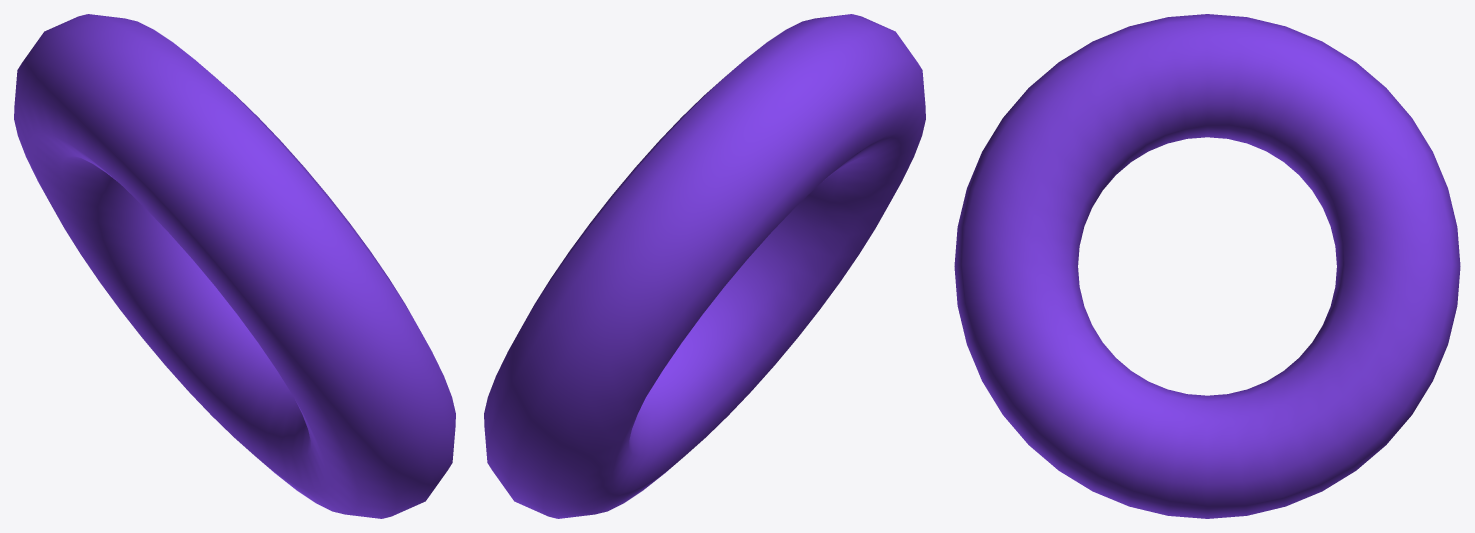
3 renders of one model, left to right at view 1: azimuth 30°, elevation 25°; view 2: azimuth 150°, elevation 25°; view 3: azimuth 270°, elevation 25°, orthographic. The views are drawn at different scales.
Parts seen in each view (by area): view 1: Torus; view 2: Torus; view 3: Torus.
Part boxes in pixels (<box>): Torus: <box>14,14,455,518</box>; Torus: <box>484,14,925,518</box>; Torus: <box>954,14,1460,518</box>.
Size of the model in its own units: 1.04 by 1.56 by 1.72.
